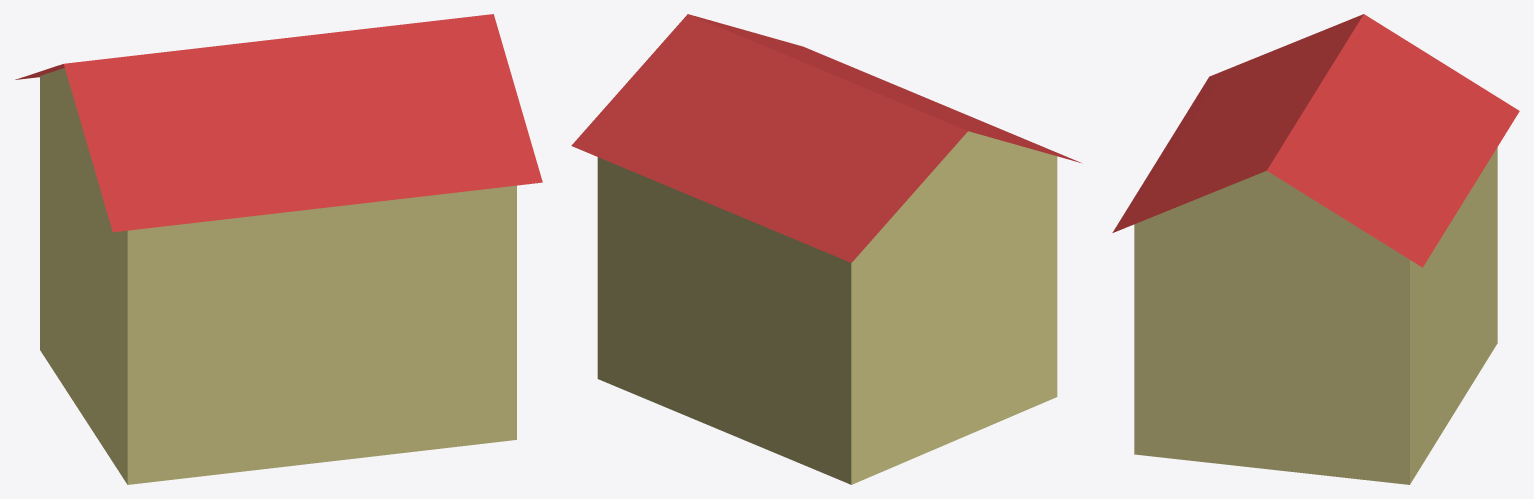
3 views of the same model, side by side, from view 1: azimuth 30°, elevation 25°; view 2: azimuth 150°, elevation 25°; view 3: azimuth 270°, elevation 25° (orthographic). The views are drawn at different scales.
Size of the model in its own units: 12.5 by 11.27 by 9.35.
